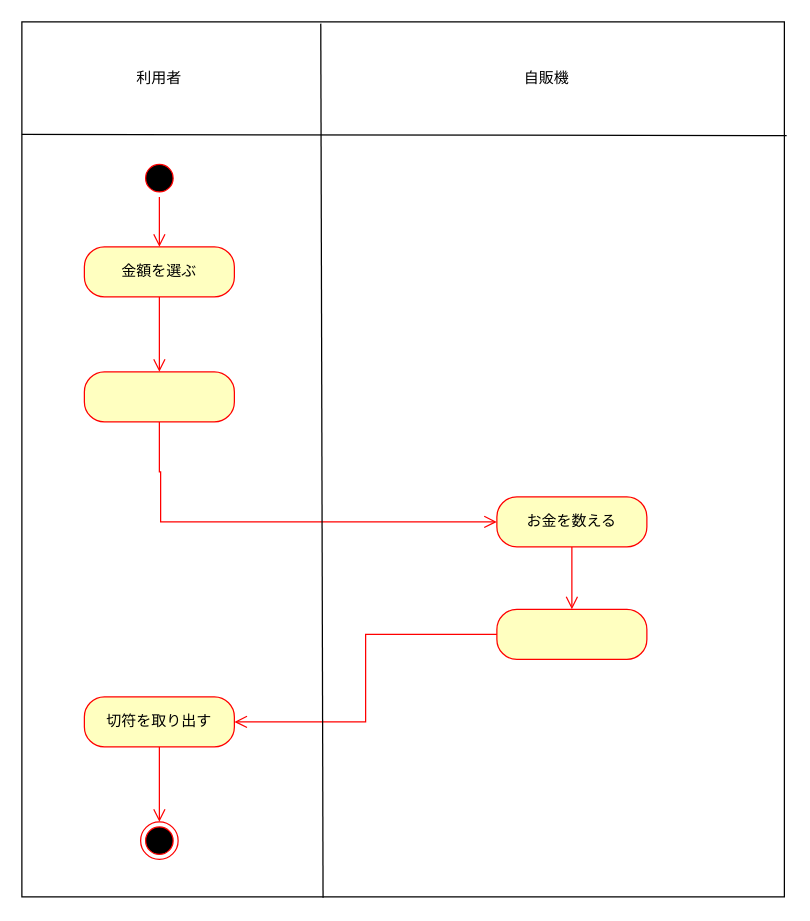
Image size: 810x921. Some labels were removed from this diagram. Here are the shapes that lost their labels. From the top down, the box of each, then its label:
(83, 371, 234, 422): お金を入れる
(496, 608, 647, 659): 切符を印刷する
